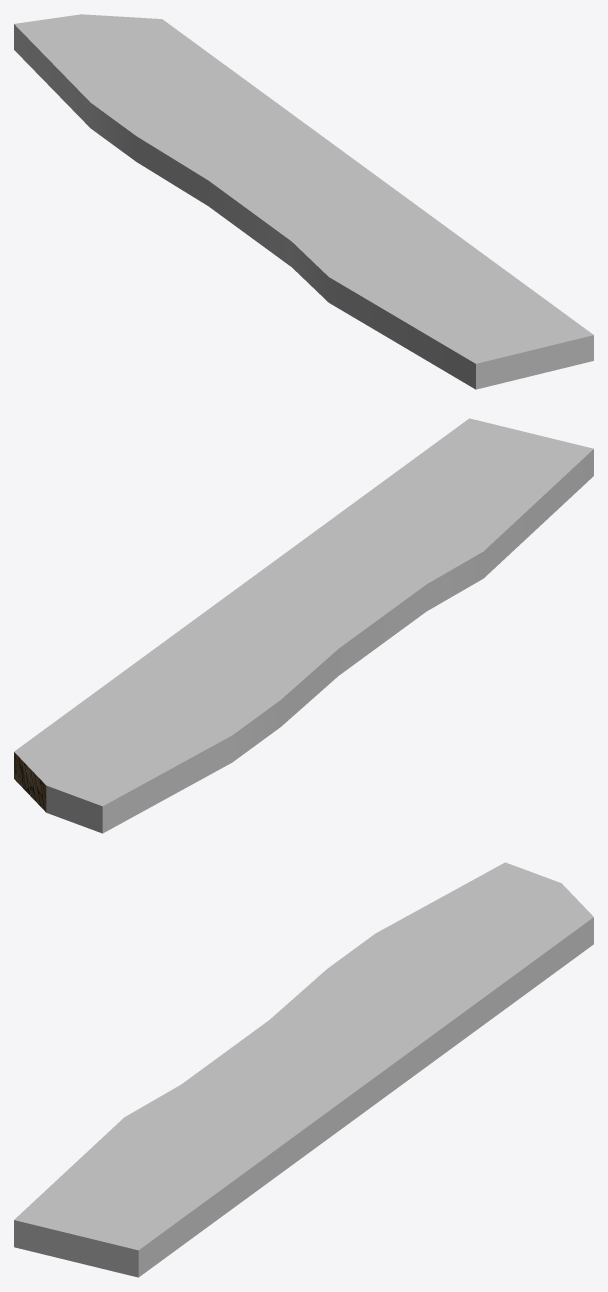
The model's file is lower_city_wood_plank_short_02.fbx.
The picture shows the model from 3 angles, top to bottom: view 1: azimuth 30°, elevation 25°; view 2: azimuth 150°, elevation 25°; view 3: azimuth 330°, elevation 25°; orthographic projection. The views are drawn at different scales.
Parts seen in each view (by area): view 1: lower_city_wood_plank_short_02; view 2: lower_city_wood_plank_short_02; view 3: lower_city_wood_plank_short_02.
Boxes of the visible parts, <box> form: lower_city_wood_plank_short_02: <box>14,14,593,389</box>; lower_city_wood_plank_short_02: <box>14,418,593,833</box>; lower_city_wood_plank_short_02: <box>14,862,593,1277</box>.
Size of the model in its own units: 0.2856 by 0.0505 by 1.65.
